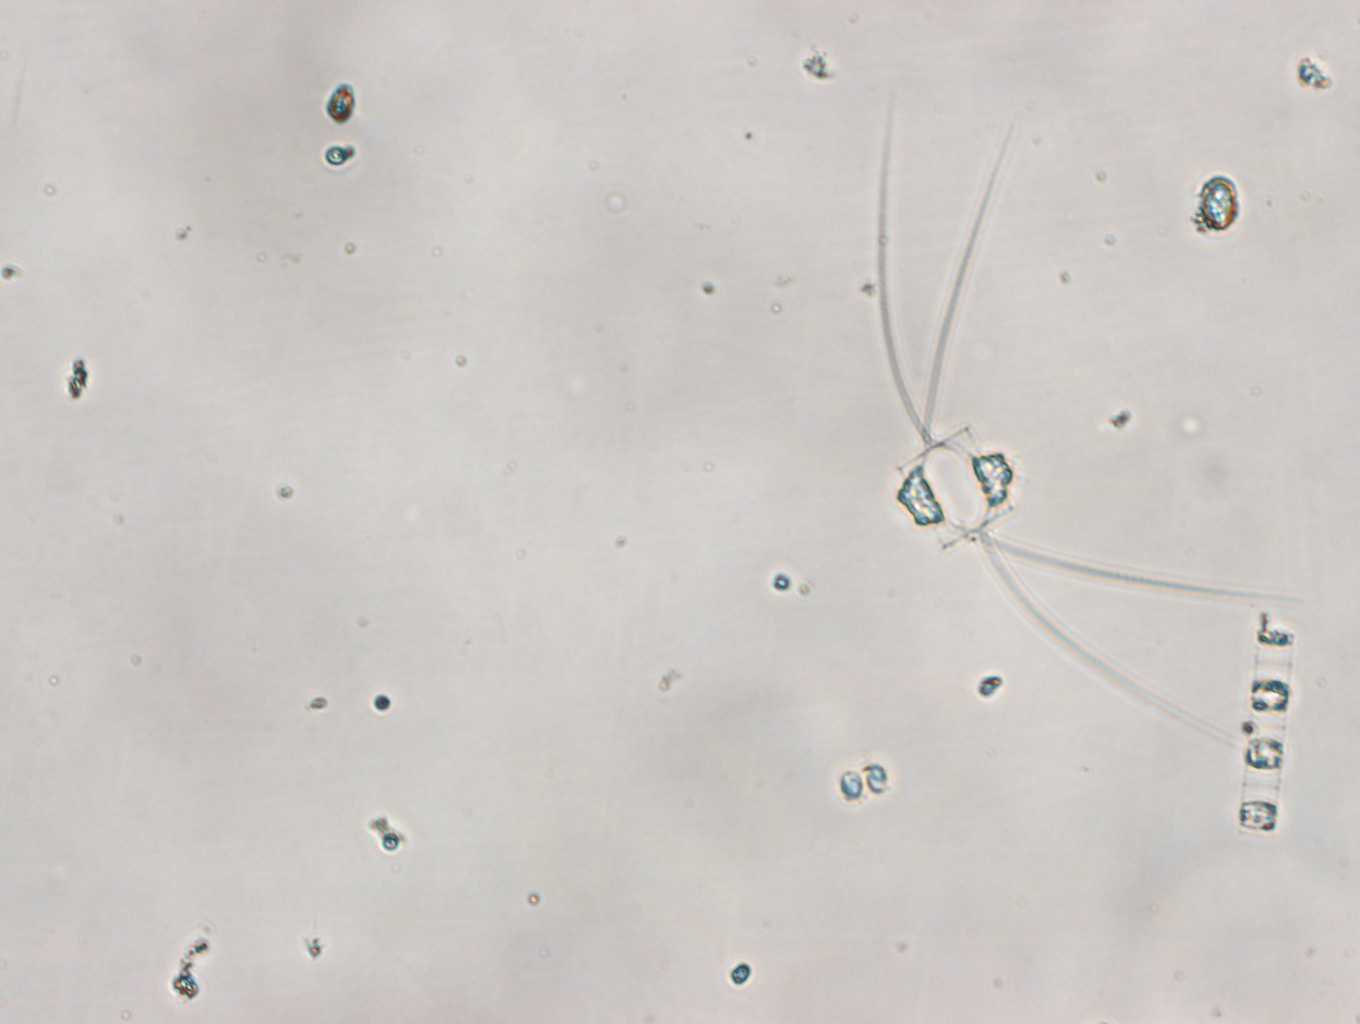chaetoceros: (878, 100, 1305, 746)
skeletonema: (1233, 623, 1295, 834)
